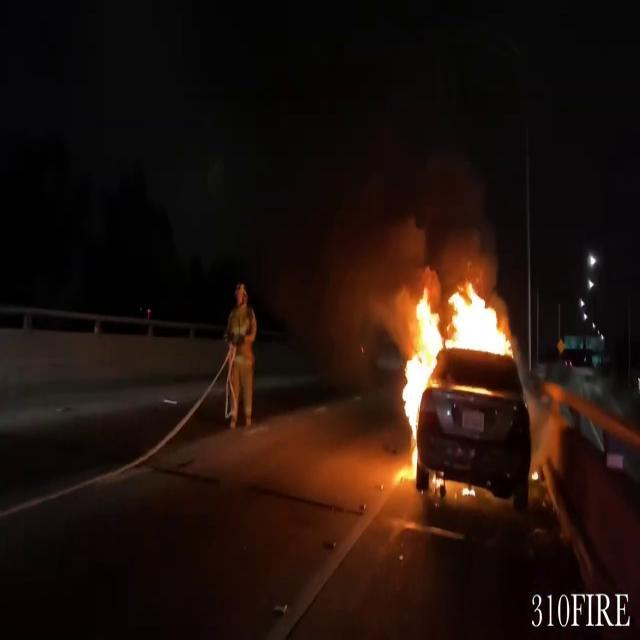Fire: (405, 278, 509, 358), (398, 276, 446, 448)
Smoke: (336, 185, 439, 354)
